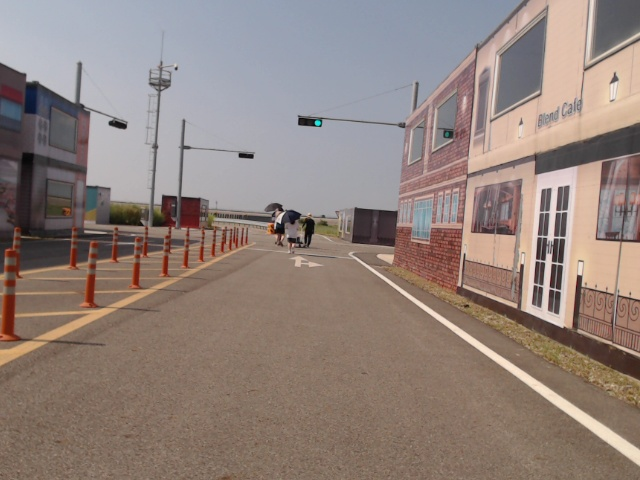green_3: (298, 116, 323, 128)
